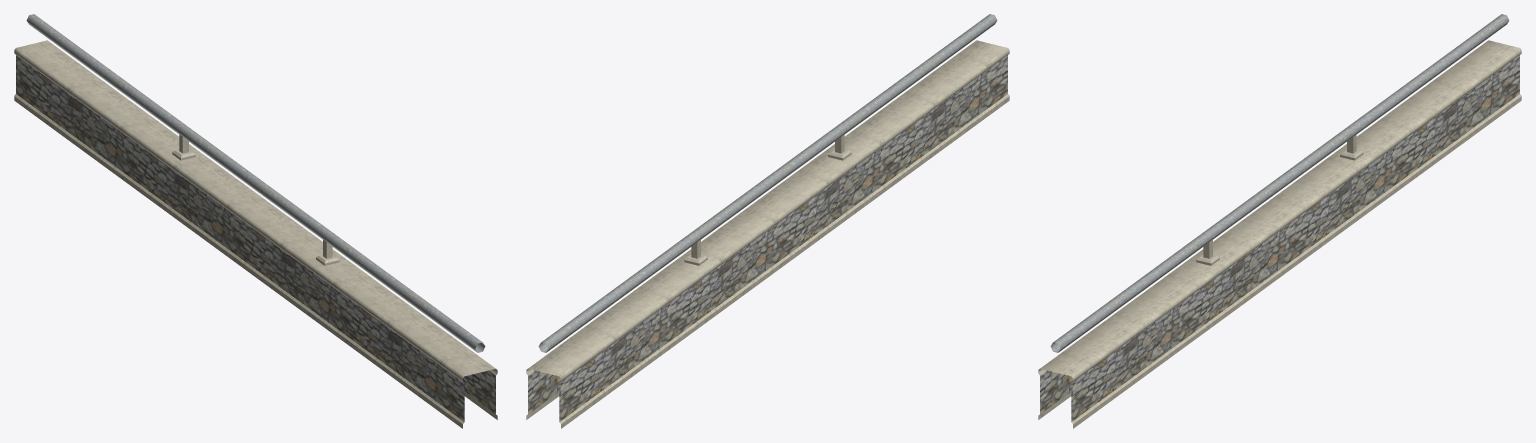
Rendered from GSDRailing8.fbx.
The picture shows the model from 3 angles, left to right: view 1: azimuth 30°, elevation 25°; view 2: azimuth 150°, elevation 25°; view 3: azimuth 330°, elevation 25°; orthographic projection.
Visible parts, largest first — view 1: GSDRailing8-10m; view 2: GSDRailing8-10m; view 3: GSDRailing8-10m.
Boxes of the visible parts, <box> form: GSDRailing8-10m: <box>14,14,497,428</box>; GSDRailing8-10m: <box>526,14,1009,428</box>; GSDRailing8-10m: <box>1038,14,1521,428</box>.
Bounding box in the file's own units: 0.45 × 1 × 10.
